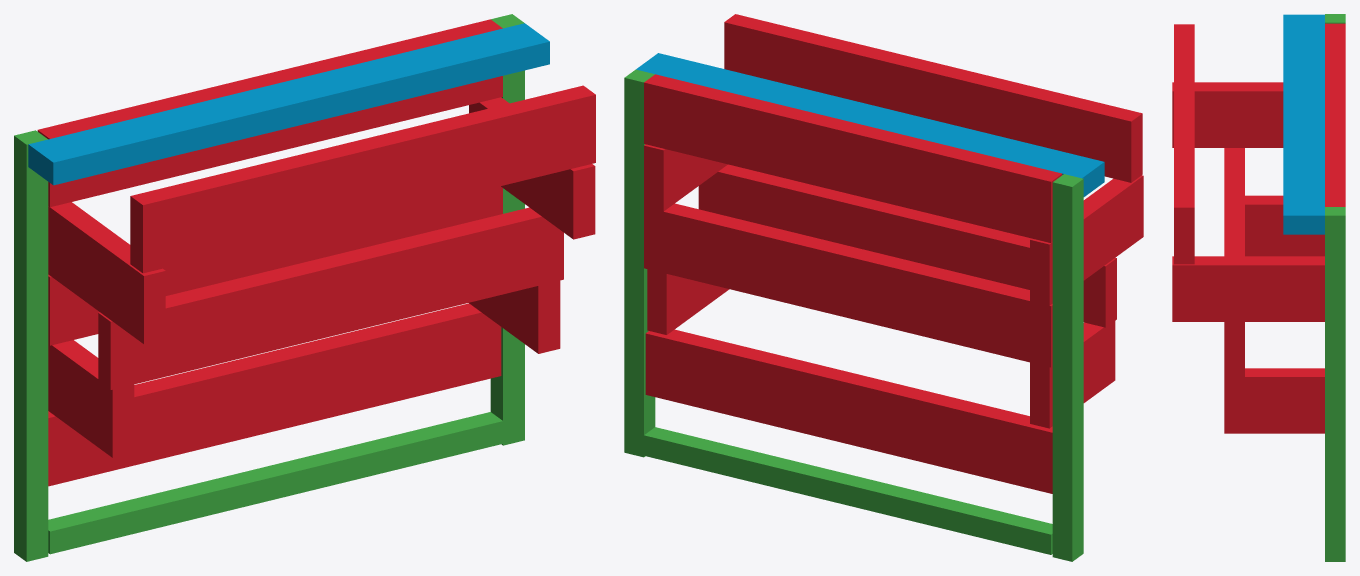
Rendered from tinker.obj.
The picture shows the model from 3 angles, left to right: view 1: azimuth 30°, elevation 25°; view 2: azimuth 150°, elevation 25°; view 3: azimuth 270°, elevation 25°; orthographic projection. The views are drawn at different scales.
Parts seen in each view (by area): view 1: group_0_15277357, group_0_4634441, group_0_40919; view 2: group_0_15277357, group_0_4634441, group_0_40919; view 3: group_0_15277357, group_0_40919, group_0_4634441.
Part boxes in pixels (<box>): group_0_15277357: <box>37,19,595,486</box>; group_0_4634441: <box>14,14,524,561</box>; group_0_40919: <box>28,23,549,185</box>; group_0_15277357: <box>644,14,1143,493</box>; group_0_4634441: <box>624,69,1083,561</box>; group_0_40919: <box>636,53,1104,196</box>; group_0_15277357: <box>1172,23,1345,433</box>; group_0_40919: <box>1283,14,1324,234</box>; group_0_4634441: <box>1325,14,1345,561</box>.
Bounding box in the file's own units: 275 × 220 × 100.
